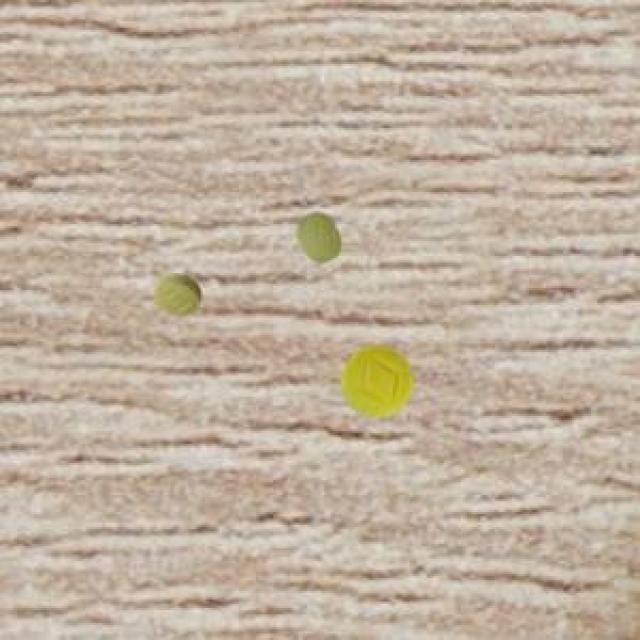Decolgen: (332, 337, 420, 428), (288, 194, 355, 274), (147, 264, 204, 322)
